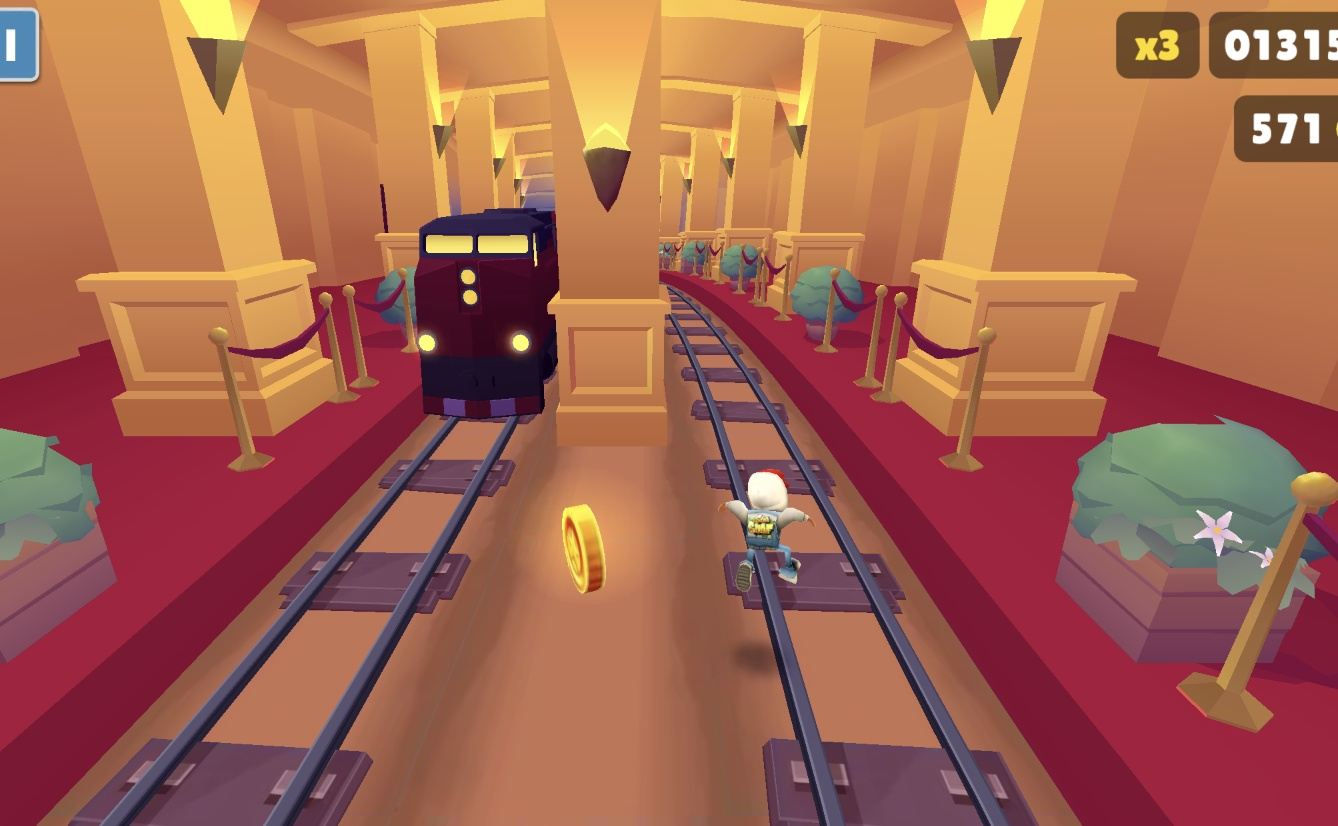pillar: (552, 0, 671, 449)
train: (417, 215, 554, 422)
